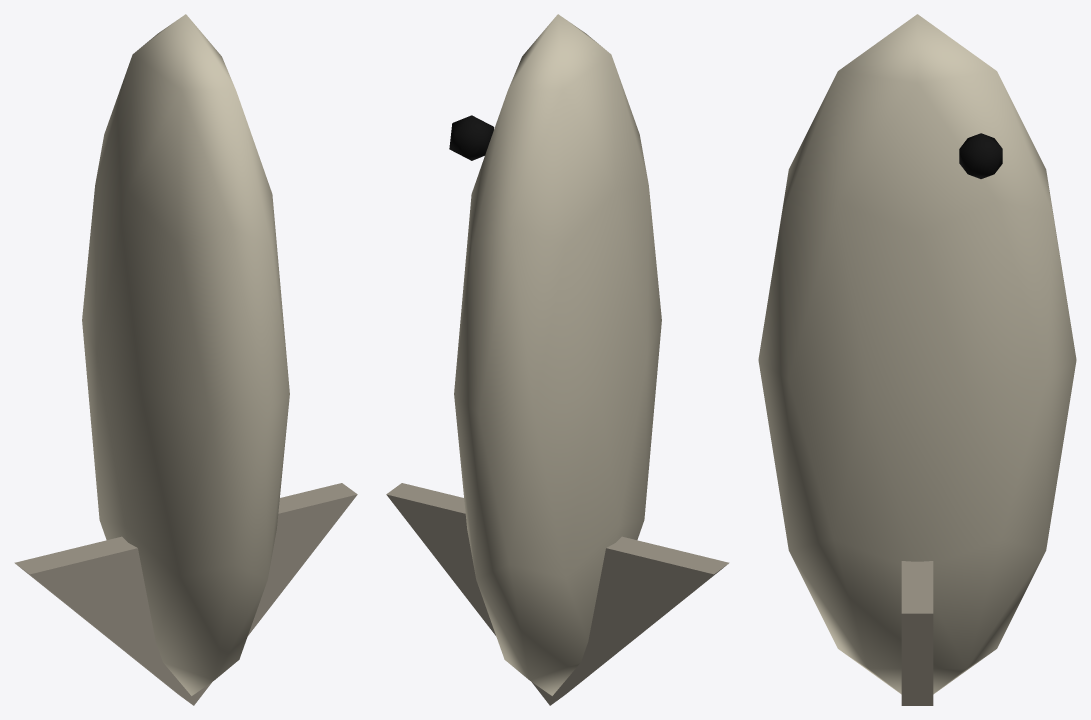
The model's file is bonefish.glb.
The picture shows the model from 3 angles, left to right: view 1: azimuth 30°, elevation 25°; view 2: azimuth 150°, elevation 25°; view 3: azimuth 270°, elevation 25°; orthographic projection.
Visible parts, largest first — view 1: bonefish_v0; view 2: bonefish_v0; view 3: bonefish_v0.
Boxes of the visible parts, box(x1,y1,x2,y2) form: bonefish_v0: box(14, 14, 357, 705); bonefish_v0: box(386, 14, 729, 705); bonefish_v0: box(758, 14, 1076, 705).
Bounding box in the file's own units: 0.12 × 0.24 × 0.1.
